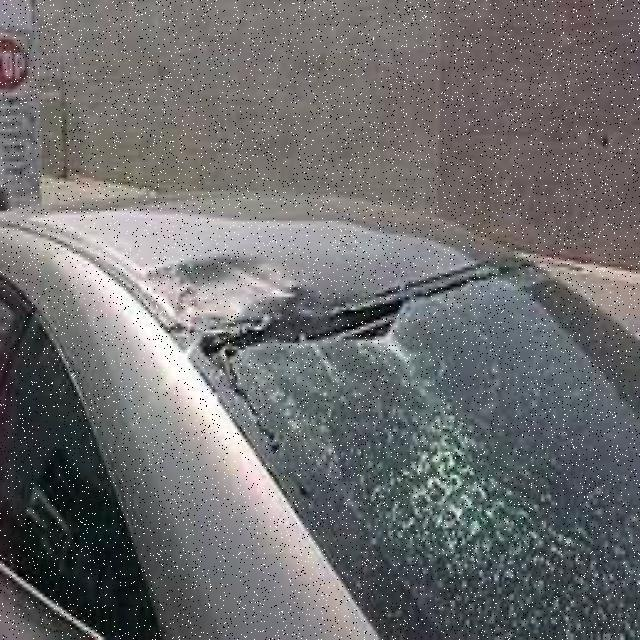Rear-windscreen-Damage: (165, 228, 638, 636)
